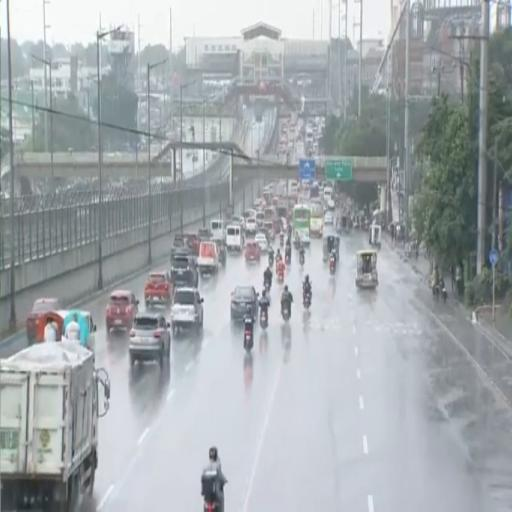bus: (292, 204, 311, 244), (310, 199, 324, 237)
car: (129, 312, 170, 367), (26, 298, 60, 343), (171, 287, 203, 333), (106, 291, 138, 331), (144, 271, 172, 307), (231, 285, 258, 322), (171, 252, 199, 287), (198, 240, 218, 275), (245, 240, 260, 262), (186, 234, 200, 255), (255, 232, 268, 253), (172, 235, 187, 251), (263, 221, 275, 241), (245, 217, 257, 234), (198, 229, 211, 242), (229, 216, 242, 226), (256, 212, 264, 227), (324, 213, 333, 225), (327, 199, 335, 211)
motorcycle: (204, 490, 219, 511), (244, 324, 253, 353), (303, 292, 312, 310), (204, 500, 218, 511), (260, 308, 267, 329), (282, 304, 290, 322), (441, 283, 447, 302), (277, 266, 284, 282), (433, 284, 440, 300), (330, 256, 335, 275), (264, 281, 270, 294), (285, 250, 290, 265), (268, 253, 273, 267), (300, 252, 305, 266), (280, 233, 284, 247)
truck: (0, 341, 110, 511)
